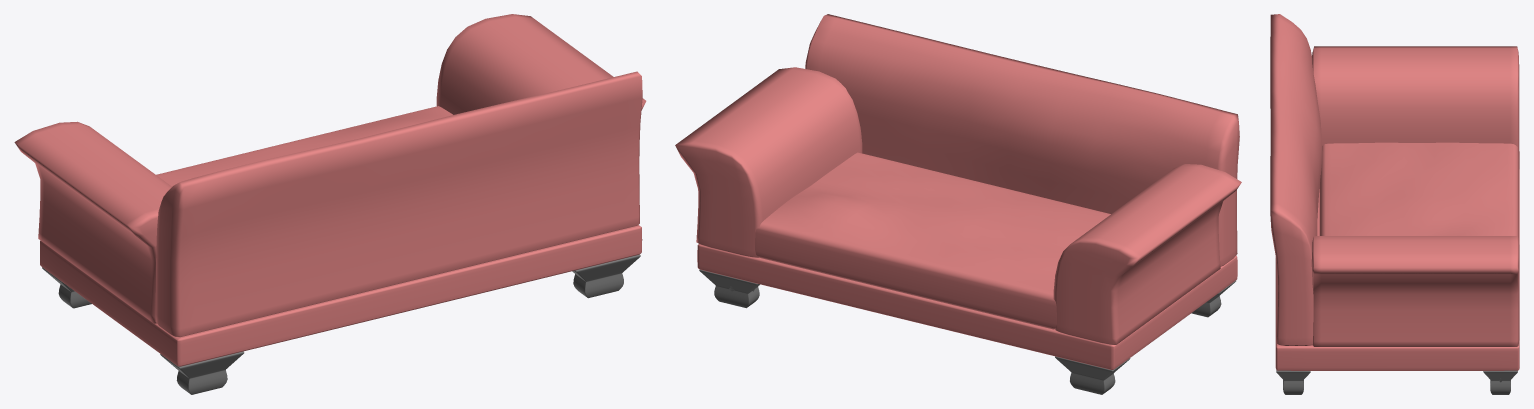
Rendered from Sofa_2.fbx.
3 renders of one model, left to right at view 1: azimuth 30°, elevation 25°; view 2: azimuth 150°, elevation 25°; view 3: azimuth 270°, elevation 25°, orthographic. The views are drawn at different scales.
Parts seen in each view (by area): view 1: pCube2, pCube4, pCube5, pCube3, pCube1, pCube10, pCube9; view 2: pCube2, pCube1, pCube3, pCube4, pCube5, pCube8, pCube7; view 3: pCube3, pCube4, pCube1, pCube2, pCube5, pCube9, pCube7.
Boxes of the visible parts, box(x1,y1,x2,y2) form: pCube2: box(155, 71, 642, 337); pCube4: box(14, 121, 171, 323); pCube5: box(40, 225, 642, 366); pCube3: box(436, 14, 646, 114); pCube1: box(156, 106, 452, 186); pCube10: box(160, 351, 244, 394); pCube9: box(572, 254, 640, 298); pCube2: box(805, 14, 1239, 266); pCube1: box(755, 152, 1110, 329); pCube3: box(675, 67, 862, 257); pCube4: box(1053, 164, 1241, 344); pCube5: box(697, 244, 1237, 369); pCube8: box(1055, 356, 1130, 394); pCube7: box(699, 269, 759, 308); pCube3: box(1311, 236, 1519, 346); pCube4: box(1312, 46, 1519, 168); pCube1: box(1319, 142, 1518, 239); pCube2: box(1270, 14, 1322, 345); pCube5: box(1275, 151, 1519, 370); pCube9: box(1276, 370, 1310, 394); pCube7: box(1483, 370, 1517, 394).
Size of the model in its own units: 10.33 by 4.23 by 4.94.
